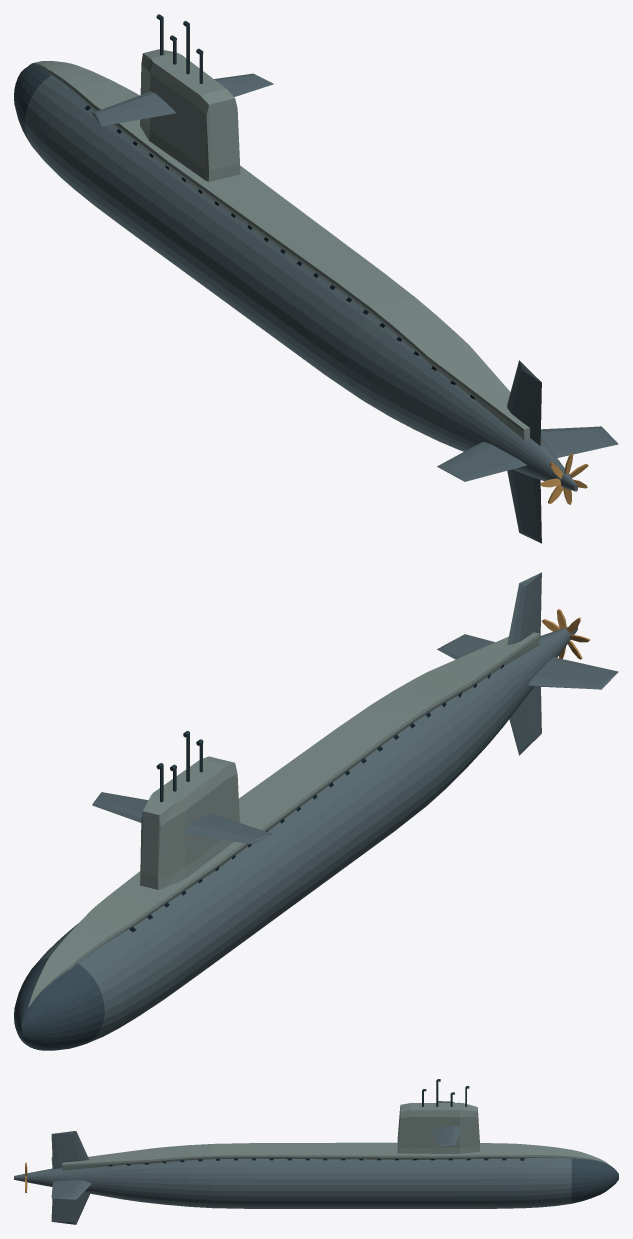
Rendered from archive-type-093-early.glb.
3 views of the same model, one above another, from view 1: azimuth 30°, elevation 25°; view 2: azimuth 150°, elevation 25°; view 3: azimuth 270°, elevation 25° (orthographic). The views are drawn at different scales.
Visible parts, largest first — view 1: archive-type-093-early-pressure_hull-geometry, archive-type-093-early-cruise_deck-geometry, archive-type-093-early-submarine_sail-geometry, archive-type-093-early-stern_rudder_2-geometry, archive-type-093-early-stern_rudder_3-geometry, archive-type-093-early-stern_rudder_1-geometry, archive-type-093-early-stern_rudder_0-geometry, archive-type-093-early-diving_plane_-1-geometry, archive-type-093-early-screw_0-geometry, archive-type-093-early-diving_plane_1-geometry; view 2: archive-type-093-early-pressure_hull-geometry, archive-type-093-early-cruise_deck-geometry, archive-type-093-early-submarine_sail-geometry, archive-type-093-early-stern_rudder_2-geometry, archive-type-093-early-stern_rudder_3-geometry, archive-type-093-early-diving_plane_-1-geometry, archive-type-093-early-stern_rudder_1-geometry, archive-type-093-early-diving_plane_1-geometry, archive-type-093-early-stern_rudder_0-geometry, archive-type-093-early-screw_0-geometry; view 3: archive-type-093-early-pressure_hull-geometry, archive-type-093-early-cruise_deck-geometry, archive-type-093-early-submarine_sail-geometry, archive-type-093-early-stern_rudder_3-geometry, archive-type-093-early-stern_rudder_1-geometry, archive-type-093-early-stern_rudder_0-geometry, archive-type-093-early-diving_plane_1-geometry, archive-type-093-early-flood_openings-geometry.
Part boxes in pixels (box(x1,y1,x2,y2)): archive-type-093-early-pressure_hull-geometry: box(14, 64, 577, 491); archive-type-093-early-cruise_deck-geometry: box(28, 61, 529, 440); archive-type-093-early-submarine_sail-geometry: box(140, 14, 240, 181); archive-type-093-early-stern_rudder_2-geometry: box(437, 442, 526, 481); archive-type-093-early-stern_rudder_3-geometry: box(507, 360, 541, 445); archive-type-093-early-stern_rudder_1-geometry: box(507, 469, 541, 543); archive-type-093-early-stern_rudder_0-geometry: box(540, 426, 618, 457); archive-type-093-early-diving_plane_-1-geometry: box(92, 91, 176, 126); archive-type-093-early-screw_0-geometry: box(540, 453, 588, 504); archive-type-093-early-diving_plane_1-geometry: box(214, 73, 273, 96); archive-type-093-early-pressure_hull-geometry: box(14, 627, 577, 1050); archive-type-093-early-cruise_deck-geometry: box(28, 632, 539, 1008); archive-type-093-early-submarine_sail-geometry: box(140, 731, 239, 889); archive-type-093-early-stern_rudder_2-geometry: box(528, 657, 618, 689); archive-type-093-early-stern_rudder_3-geometry: box(507, 572, 541, 645); archive-type-093-early-diving_plane_-1-geometry: box(182, 813, 273, 844); archive-type-093-early-stern_rudder_1-geometry: box(509, 686, 541, 755); archive-type-093-early-diving_plane_1-geometry: box(92, 792, 148, 822); archive-type-093-early-stern_rudder_0-geometry: box(437, 634, 494, 659); archive-type-093-early-screw_0-geometry: box(542, 609, 590, 659); archive-type-093-early-pressure_hull-geometry: box(14, 1157, 618, 1208); archive-type-093-early-cruise_deck-geometry: box(62, 1142, 611, 1170); archive-type-093-early-submarine_sail-geometry: box(397, 1079, 479, 1153); archive-type-093-early-stern_rudder_3-geometry: box(51, 1131, 89, 1168); archive-type-093-early-stern_rudder_1-geometry: box(51, 1192, 89, 1224); archive-type-093-early-stern_rudder_0-geometry: box(51, 1180, 90, 1199); archive-type-093-early-diving_plane_1-geometry: box(431, 1126, 461, 1146); archive-type-093-early-flood_openings-geometry: box(108, 1158, 524, 1166).
Size of the model in its own units: 1.8 by 2.66 by 10.
